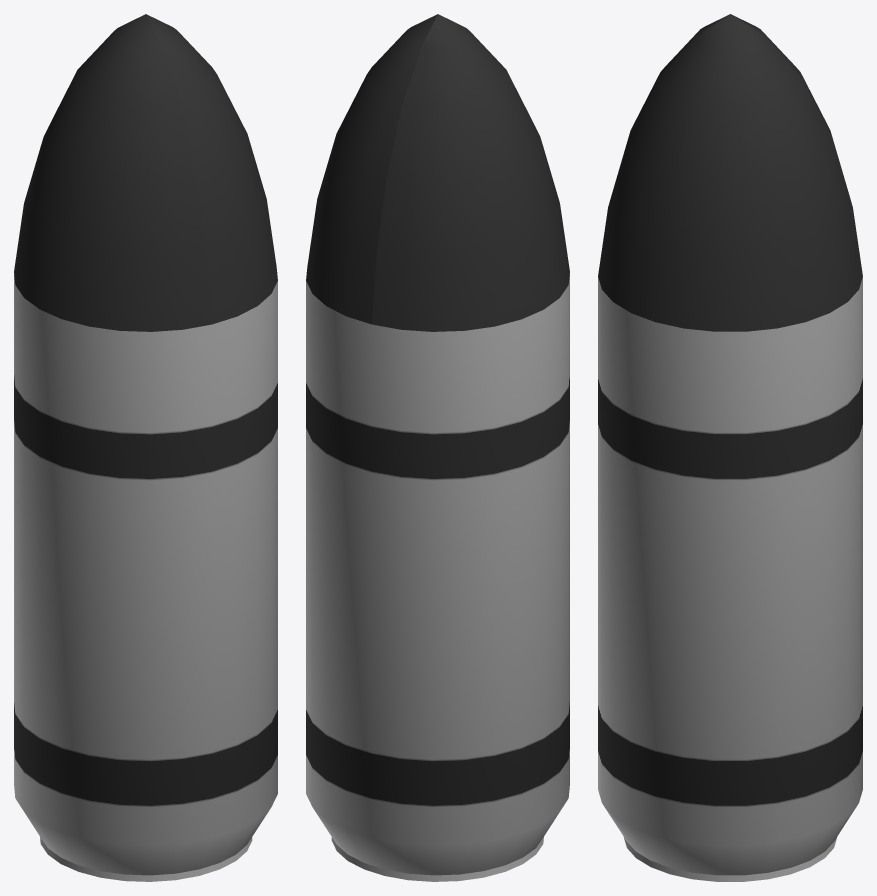
Rendered from fairing.fbx.
3 views of the same model, side by side, from view 1: azimuth 30°, elevation 25°; view 2: azimuth 150°, elevation 25°; view 3: azimuth 270°, elevation 25° (orthographic).
Parts seen in each view (by area): view 1: fairings, cap, cap_001; view 2: fairings, cap, cap_001; view 3: fairings, cap_001, cap.
Part boxes in pixels (x1=…): fairings: x1=14, y1=273, x2=277, y2=881; cap: x1=14, y1=14, x2=212, y2=331; cap_001: x1=146, y1=14, x2=277, y2=324; fairings: x1=306, y1=273, x2=569, y2=881; cap: x1=371, y1=14, x2=569, y2=331; cap_001: x1=306, y1=14, x2=437, y2=324; fairings: x1=598, y1=277, x2=862, y2=881; cap_001: x1=598, y1=14, x2=862, y2=331; cap: x1=628, y1=14, x2=832, y2=139.
Size of what is drawn, in the model's own units: 1.52 by 5.26 by 1.54.
2 materials, 1 textured.
